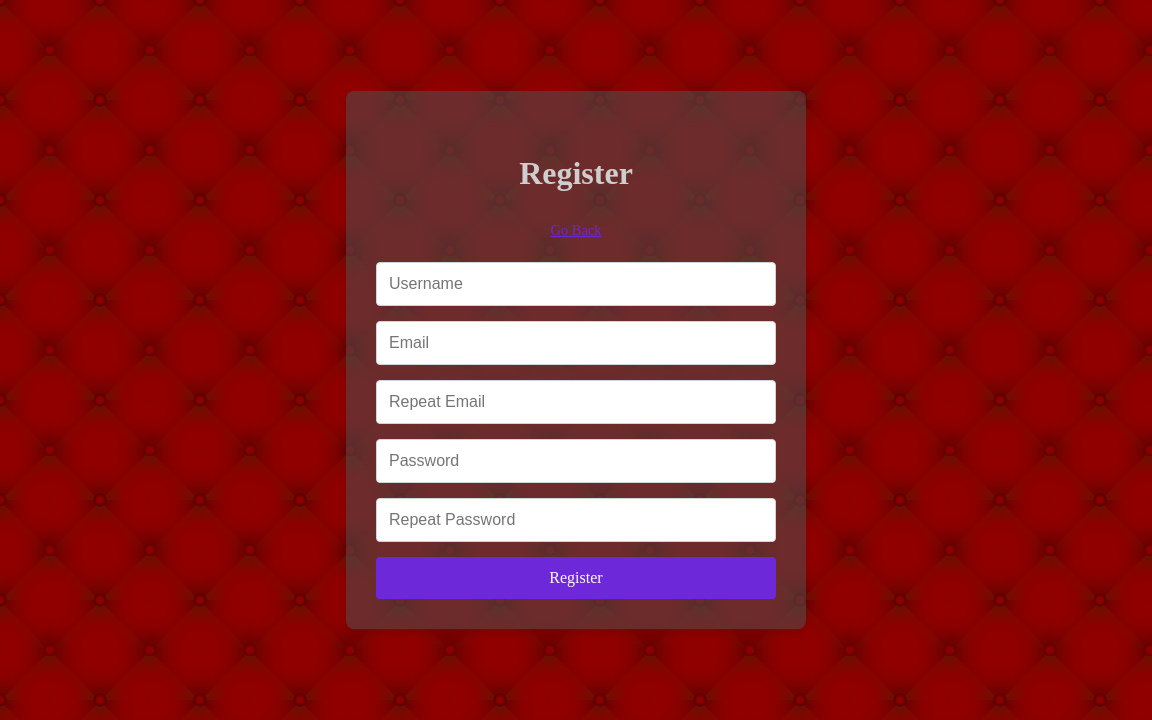
Test: RegisterPage Component › shows an error message if passwords do not match
This screenshot has width=1152, height=720.
Fill in the form fields
Type "testuser" into the field with placeholder "Username".
click(576, 284); type("testuser")  # box left=376, top=262, right=776, bottom=306
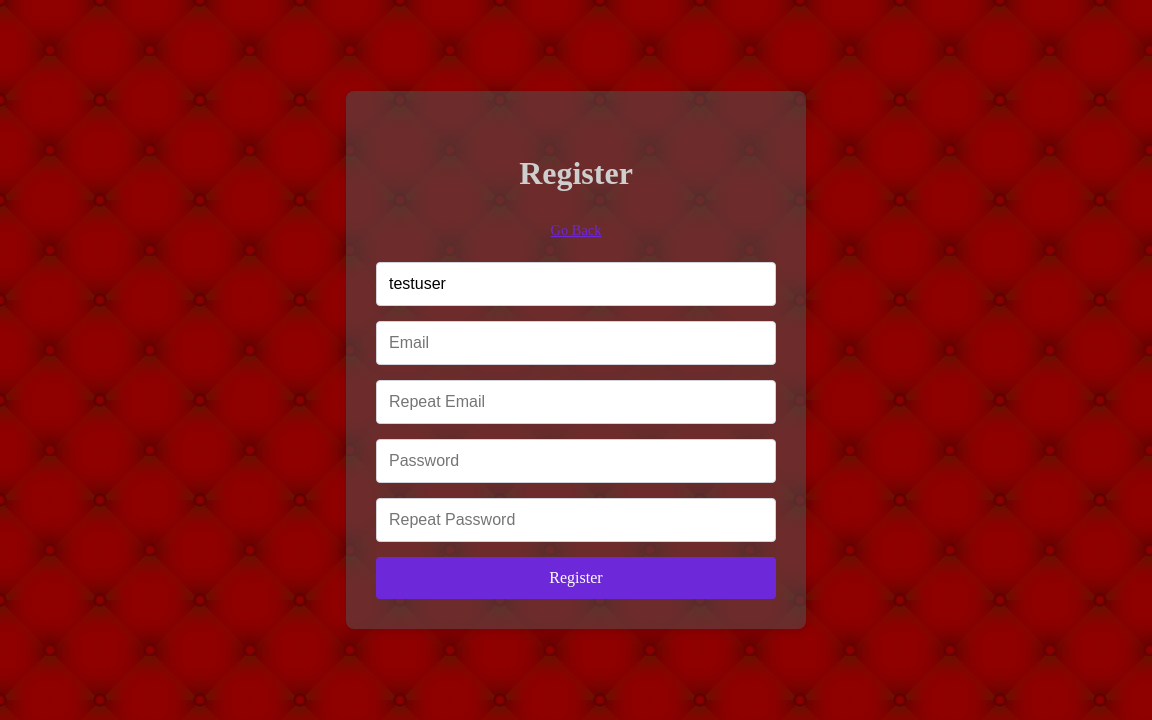
Type "test@example.com" into the field with placeholder "Email".
click(576, 343); type("test@example.com")  # box left=376, top=321, right=776, bottom=365
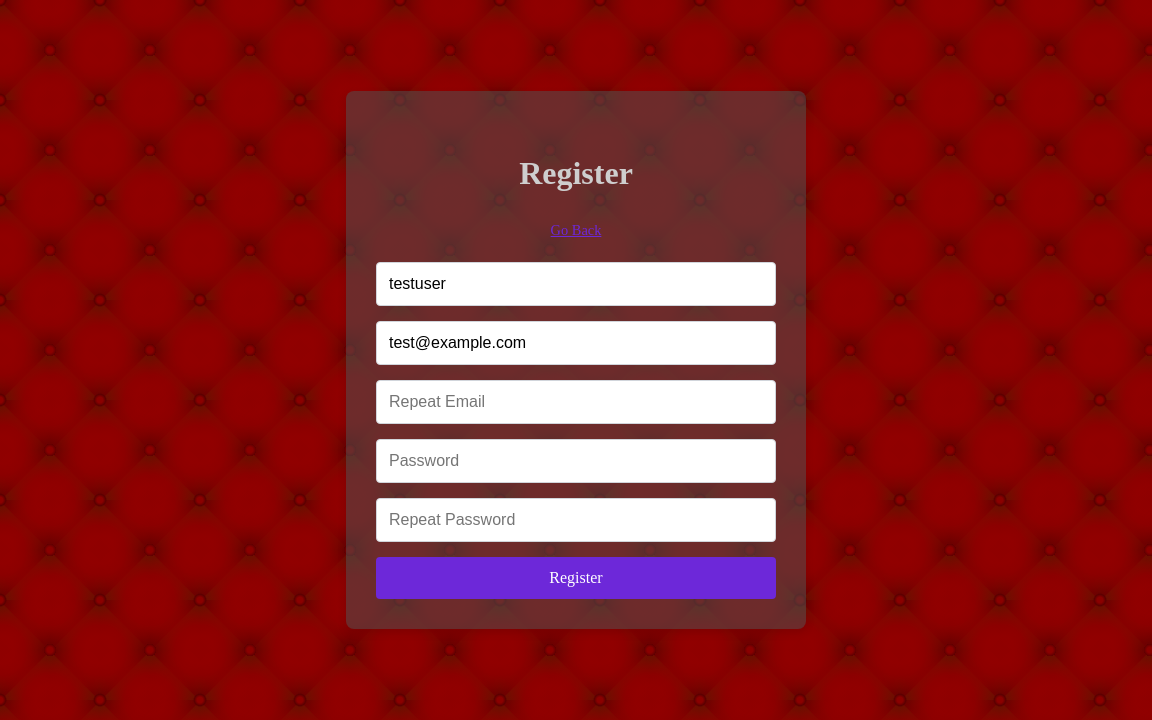
Type "test@example.com" into the field with placeholder "Repeat Email".
click(576, 402); type("test@example.com")  # box left=376, top=380, right=776, bottom=424
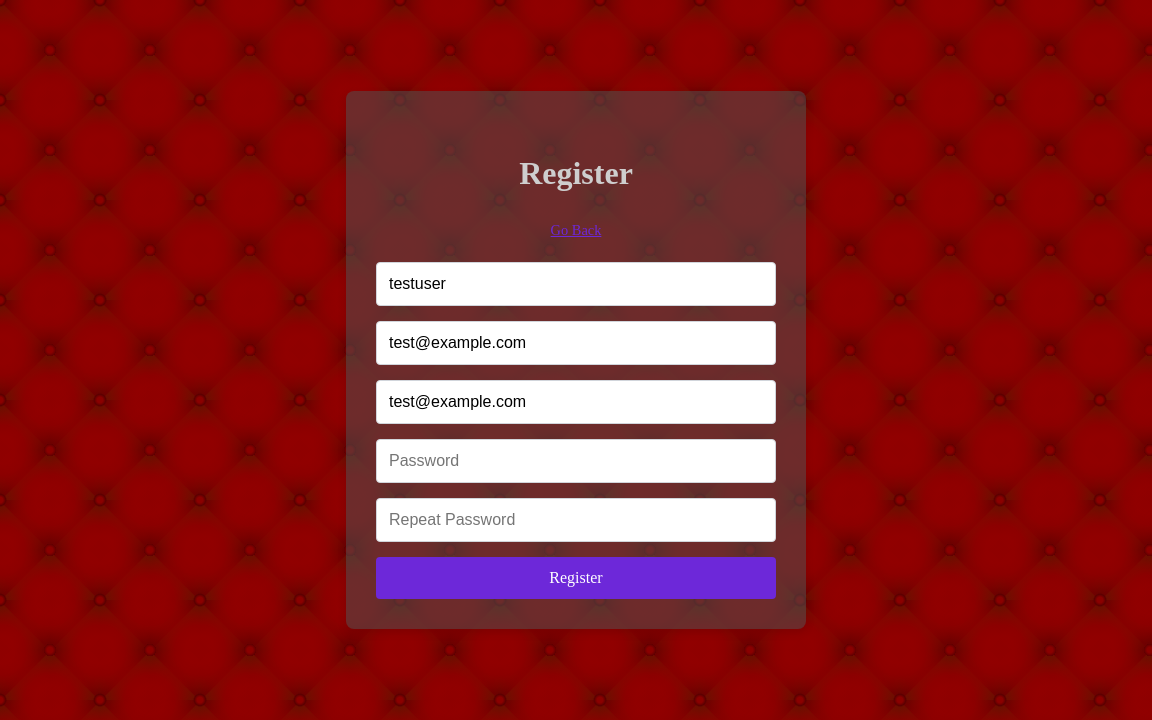
Type "password123" into the password field with placeholder "Password".
click(576, 461); type("password123")  # box left=376, top=439, right=776, bottom=483
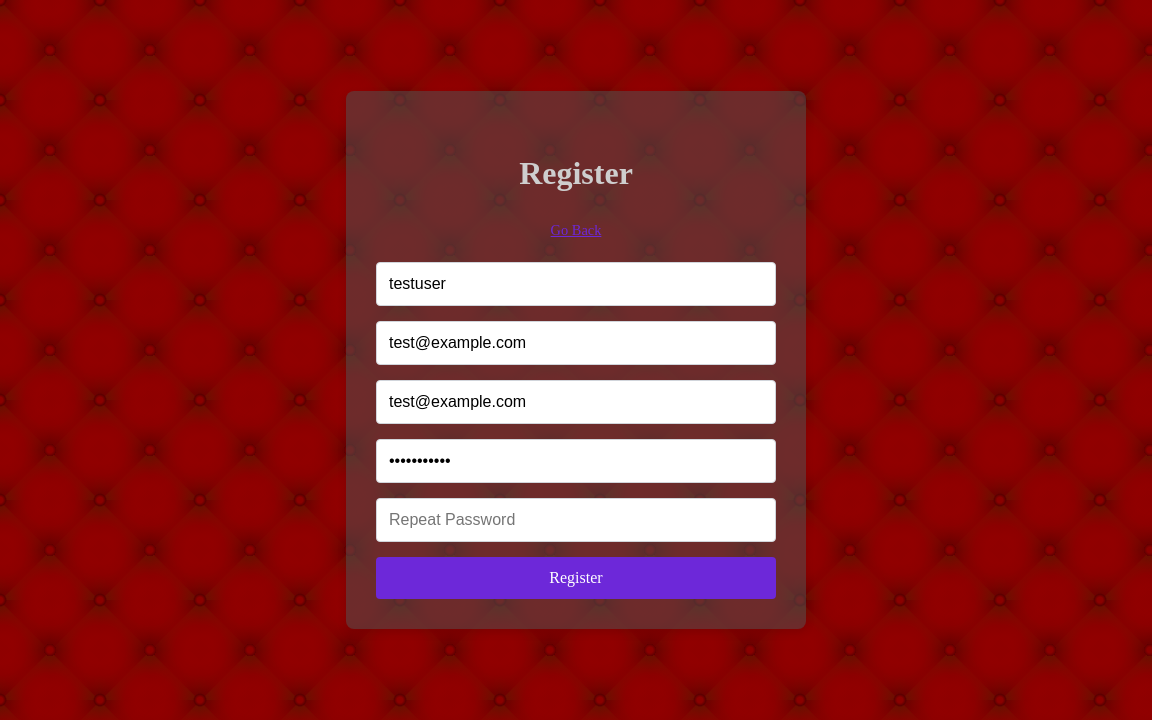
Type "differentpassword" into the password field with placeholder "Repeat Password".
click(576, 520); type("differentpassword")  # box left=376, top=498, right=776, bottom=542
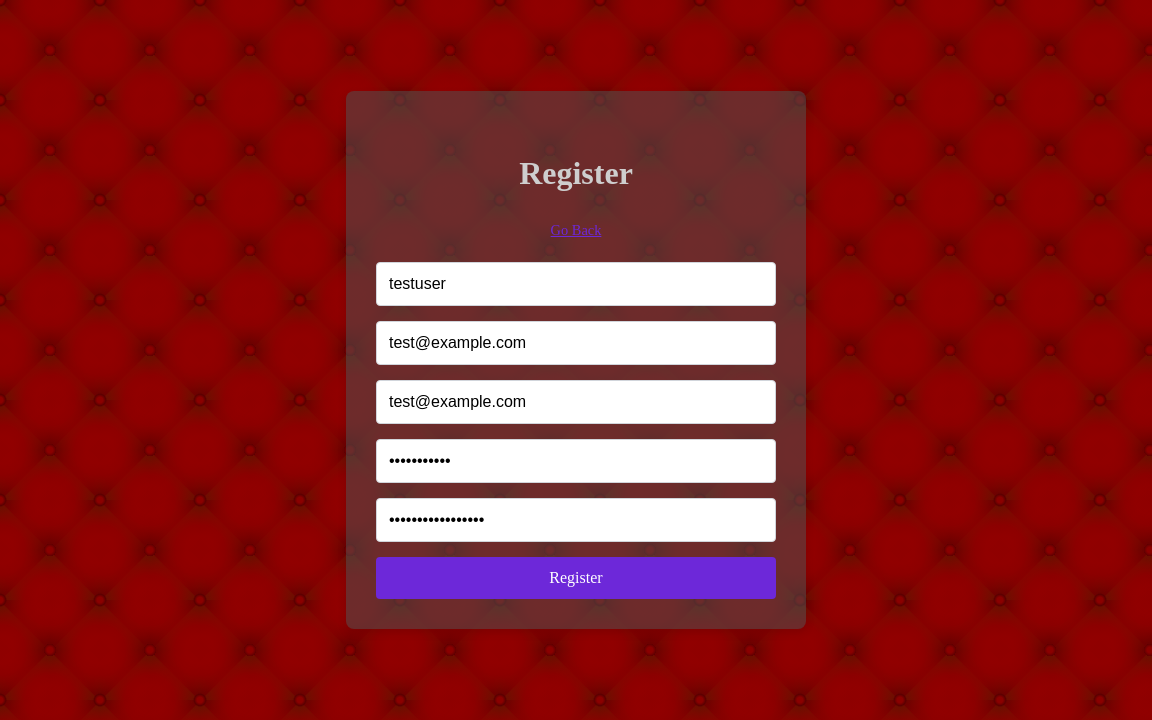
Submit the form
Click the button "Register".
click(576, 578)  # box left=376, top=557, right=776, bottom=599
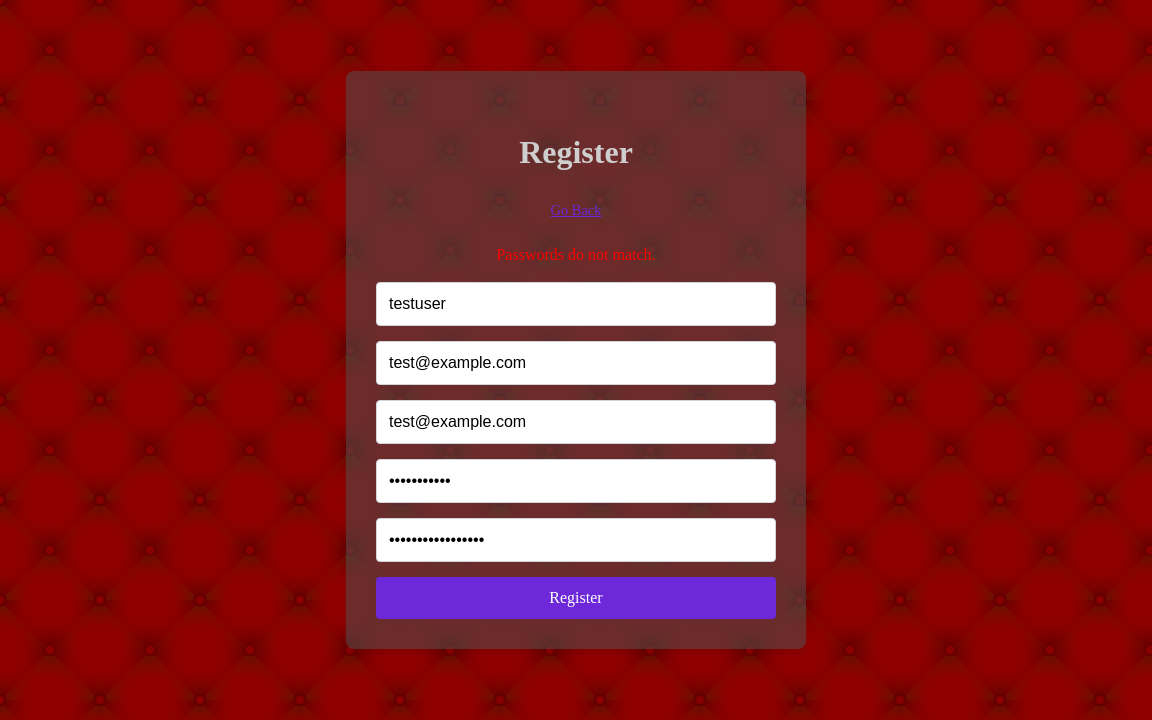
Expected: the text "Passwords do not match." is shown, left=496, top=246, right=656, bottom=263
